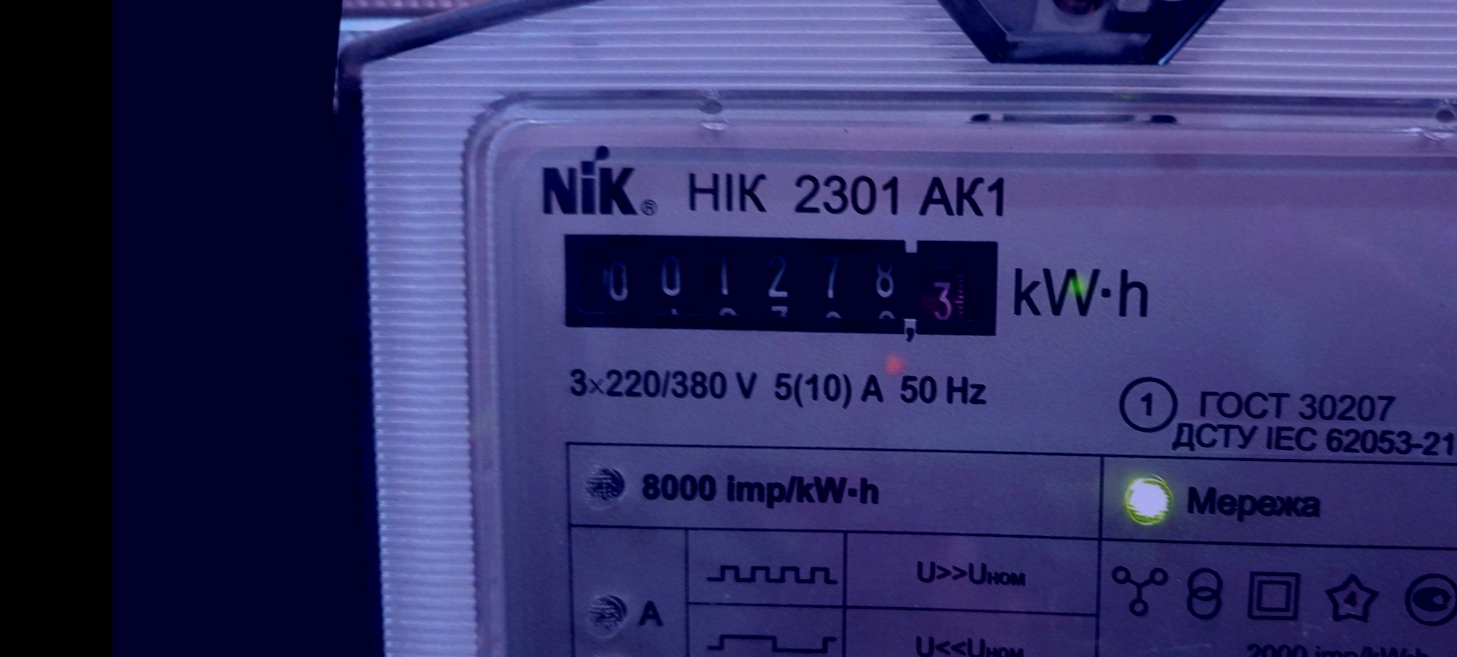0: (603, 252, 634, 302), (655, 248, 685, 297)
1: (713, 246, 736, 295)
2: (762, 250, 793, 299), (929, 248, 955, 269)
3: (927, 275, 957, 321)
7: (815, 250, 842, 298)
8: (870, 251, 899, 297)
screen: (541, 187, 1021, 377)
